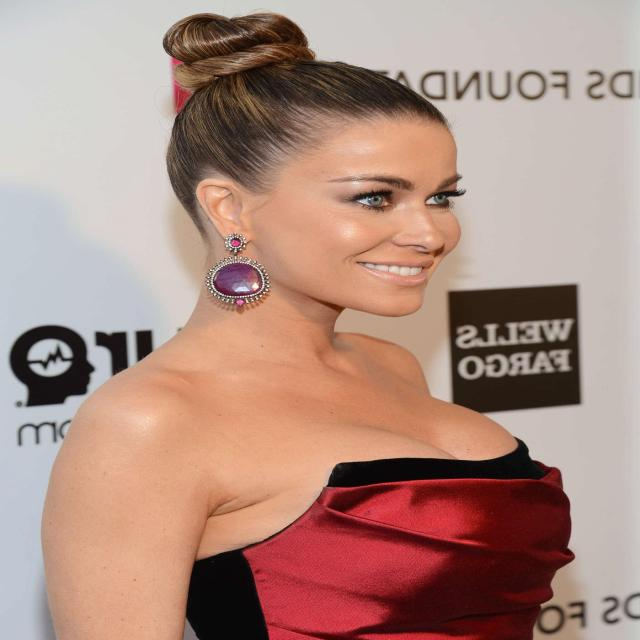no-earmuff: (188, 160, 281, 258)
